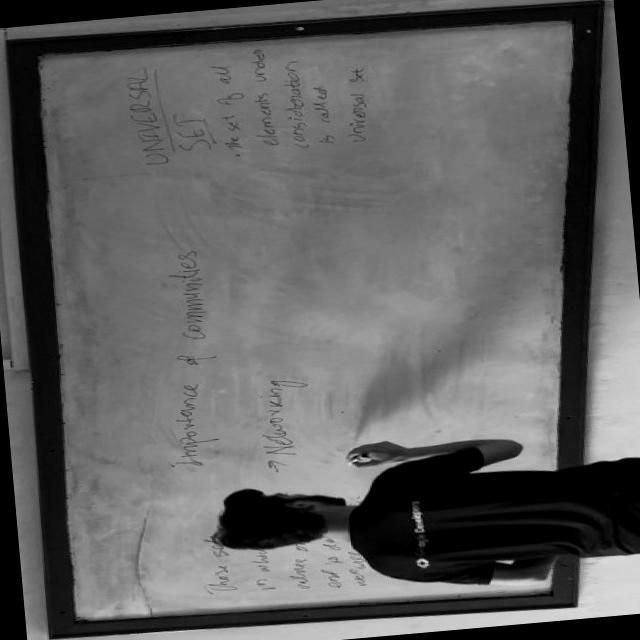Instructor: (206, 444, 640, 594)
White-board: (27, 2, 586, 631)
